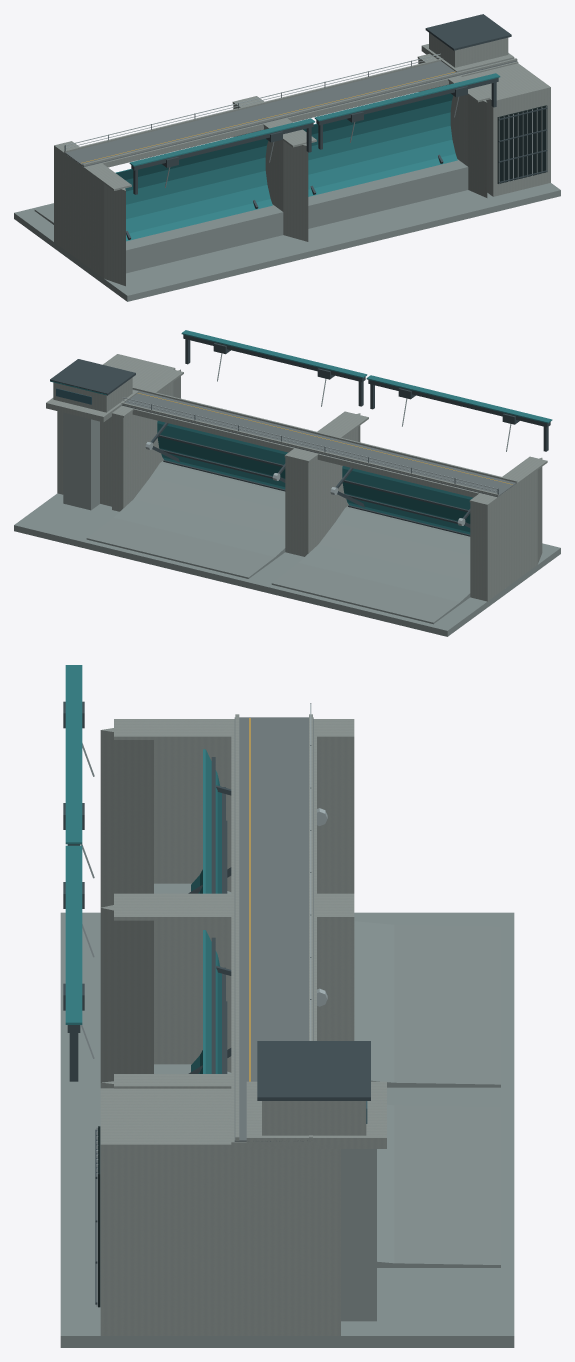
Rendered from Dam_Module75_LOD1.fbx.
The picture shows the model from 3 angles, top to bottom: view 1: azimuth 30°, elevation 25°; view 2: azimuth 150°, elevation 25°; view 3: azimuth 270°, elevation 25°; orthographic projection. The views are drawn at different scales.
Visible parts, largest first — view 1: Dam_Module75_LOD1; view 2: Dam_Module75_LOD1; view 3: Dam_Module75_LOD1.
Part boxes in pixels (<box>): Dam_Module75_LOD1: <box>14,14,560,301</box>; Dam_Module75_LOD1: <box>14,330,560,636</box>; Dam_Module75_LOD1: <box>60,665,514,1347</box>.
Bounding box in the file's own units: 7500 × 2208 × 3400.
Materials: 9 (1 with a texture image).
